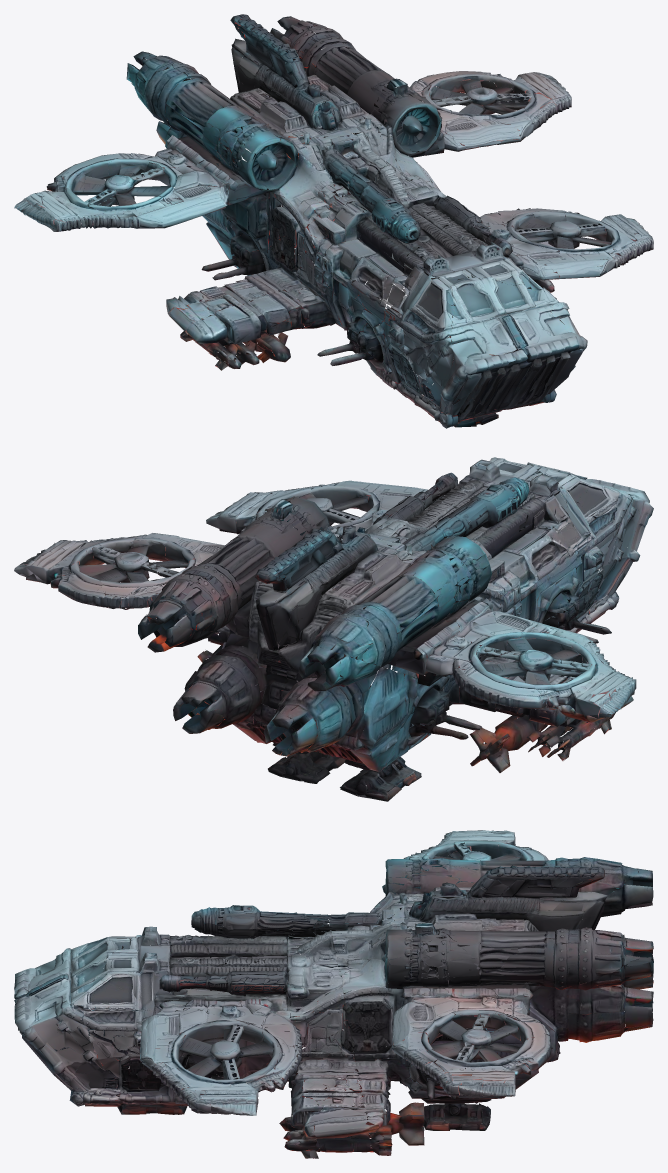
Rendered from pegasus.glb.
3 views of the same model, one above another, from view 1: azimuth 30°, elevation 25°; view 2: azimuth 150°, elevation 25°; view 3: azimuth 270°, elevation 25° (orthographic). The views are drawn at different scales.
Visible parts, largest first — view 1: tripo_part_5; view 2: tripo_part_5; view 3: tripo_part_5.
Part boxes in pixels (x1=…): tripo_part_5: x1=14, y1=14, x2=653, y2=428; tripo_part_5: x1=14, y1=457, x2=653, y2=801; tripo_part_5: x1=14, y1=830, x2=653, y2=1158.
Size of the model in its own units: 0.9565 by 0.4036 by 0.9825.
12 materials, 12 textured.
